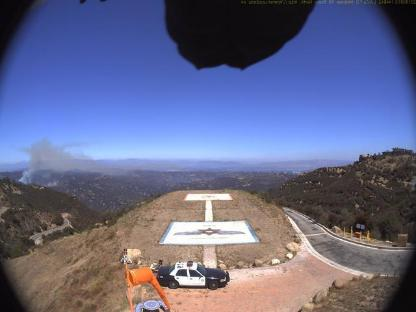smoke: (18, 137, 116, 187)
